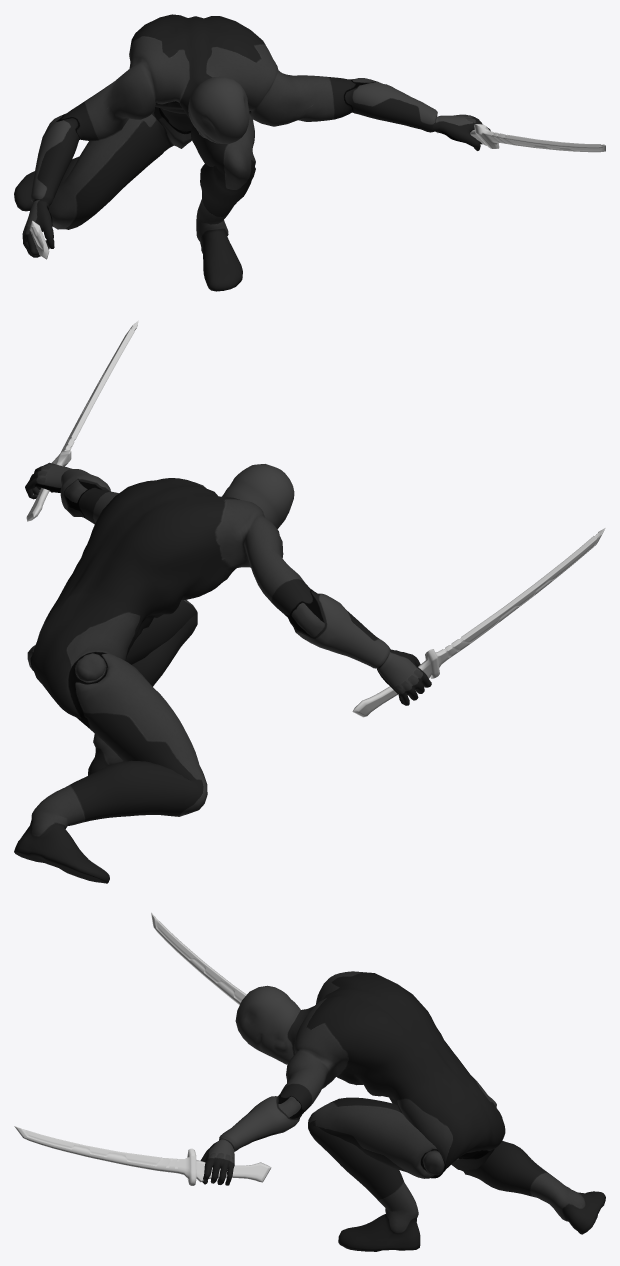
The picture shows the model from 3 angles, top to bottom: view 1: azimuth 30°, elevation 25°; view 2: azimuth 150°, elevation 25°; view 3: azimuth 270°, elevation 25°; orthographic projection. The views are drawn at different scales.
Parts seen in each view (by area): view 1: Cyborg_Ninja_Killer, Sword_l, Sword_l001; view 2: Cyborg_Ninja_Killer, Sword_l001, Sword_l; view 3: Cyborg_Ninja_Killer, Sword_l, Sword_l001.
Part boxes in pixels (x1=…): Cyborg_Ninja_Killer: x1=14, y1=14, x2=490, y2=291; Sword_l: x1=436, y1=124, x2=605, y2=152; Sword_l001: x1=29, y1=220, x2=49, y2=259; Cyborg_Ninja_Killer: x1=14, y1=462, x2=431, y2=883; Sword_l001: x1=352, y1=528, x2=605, y2=717; Sword_l: x1=26, y1=320, x2=138, y2=521; Cyborg_Ninja_Killer: x1=200, y1=971, x2=605, y2=1251; Sword_l: x1=14, y1=1126, x2=271, y2=1185; Sword_l001: x1=151, y1=912, x2=246, y2=1004.
Bounding box in the file's own units: 178 × 87.78 × 195.
